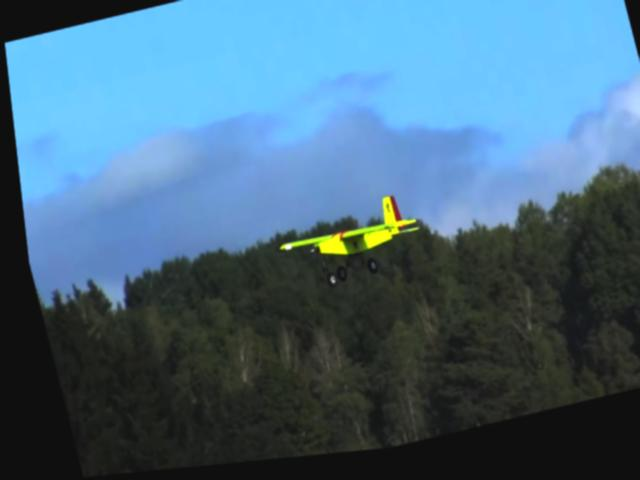plane: (266, 196, 426, 301)
